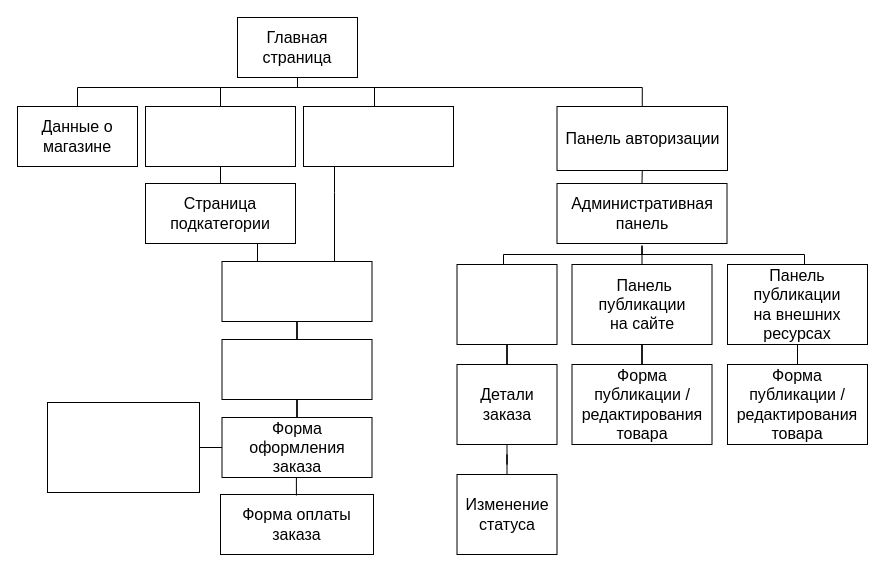
Some shapes in this 885 by 572 pixel diagram are drawn without their labels. The centre of each missing label's shape, as x and y in pixels:
Журнал заказов: point (506, 304)
Корзина: point (296, 369)
Согласие на обработку персональных данных: point (123, 447)
Страница категории товаров: point (220, 136)
Страница результатов поиска: point (378, 136)
Страница товара: point (296, 291)
